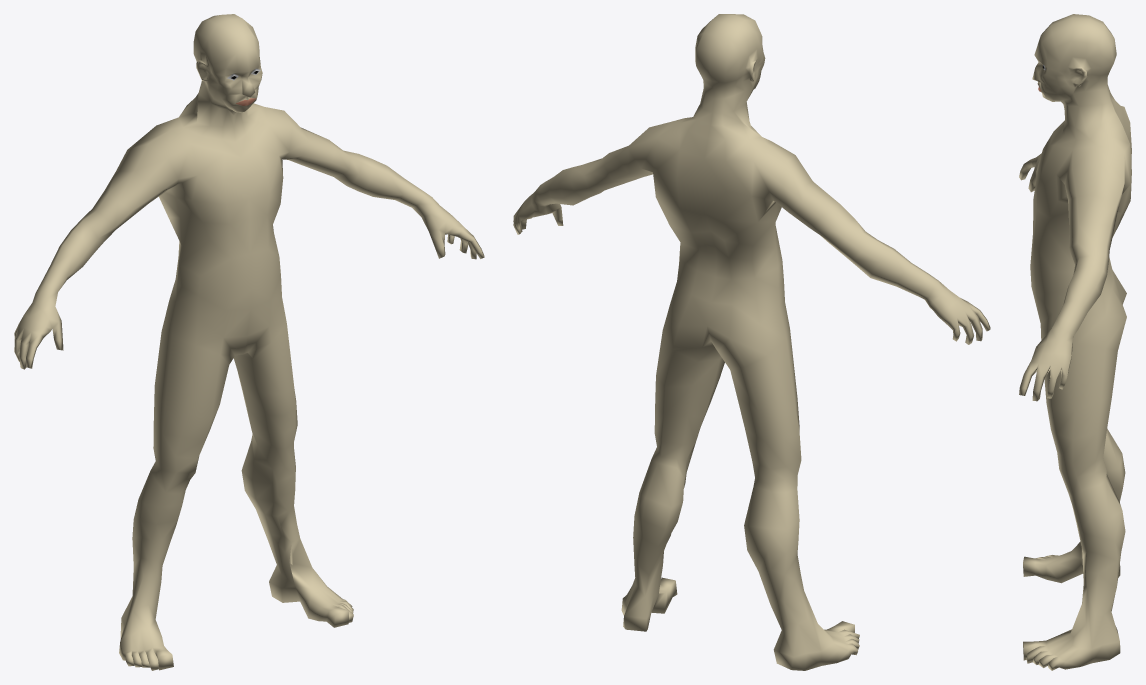
The model's file is PP_Hetjar_welded_09.fbx.
3 renders of one model, left to right at view 1: azimuth 30°, elevation 25°; view 2: azimuth 150°, elevation 25°; view 3: azimuth 270°, elevation 25°, orthographic. The views are drawn at different scales.
Visible parts, largest first — view 1: objlowman_; view 2: objlowman_; view 3: objlowman_.
Boxes of the visible parts, x1,y1,x2,y2 form: objlowman_: (14, 14, 484, 670); objlowman_: (513, 14, 990, 670); objlowman_: (1019, 14, 1131, 670).
Size of the model in its own units: 3.43 by 4.38 by 0.7467.
